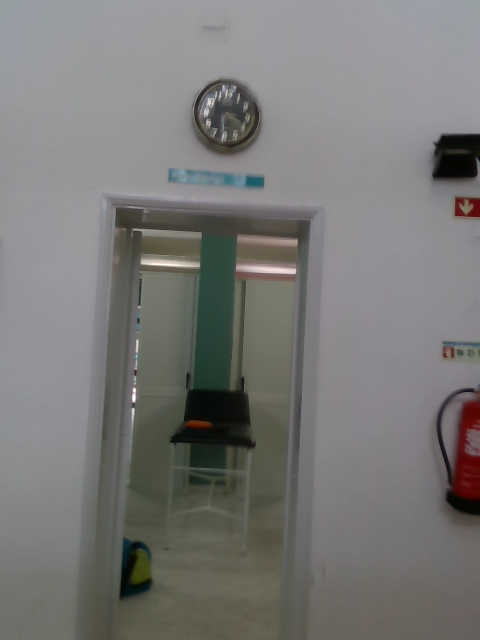open: (84, 192, 322, 639)
